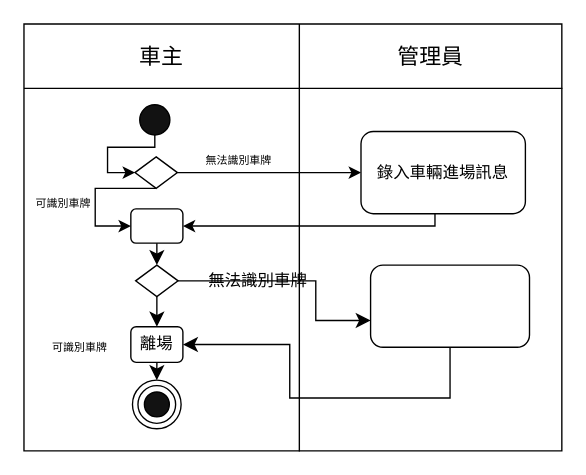
Some shapes in this 586 by 475 pixel diagram are drawn without their labels. The box of each missing label's shape, as (x1, y1, x2, y2) in pixels:
入場: (129, 208, 183, 243)
錄入車輛離場訊息: (369, 264, 530, 347)
